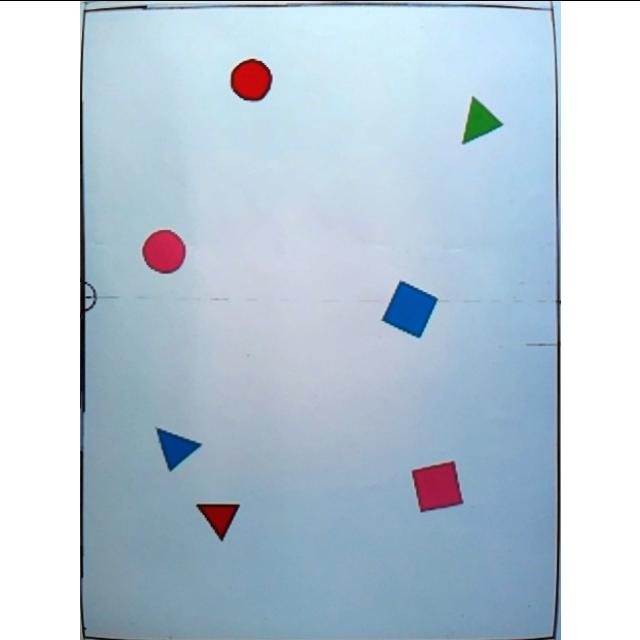blueCircle: (379, 280, 437, 336)
blueTriangle: (153, 426, 201, 470)
greenTriangle: (460, 96, 502, 144)
pinkCircle: (141, 229, 185, 273)
pinkSquare: (410, 458, 464, 512)
redCircle: (229, 57, 273, 101)
redTriangle: (195, 492, 239, 540)
